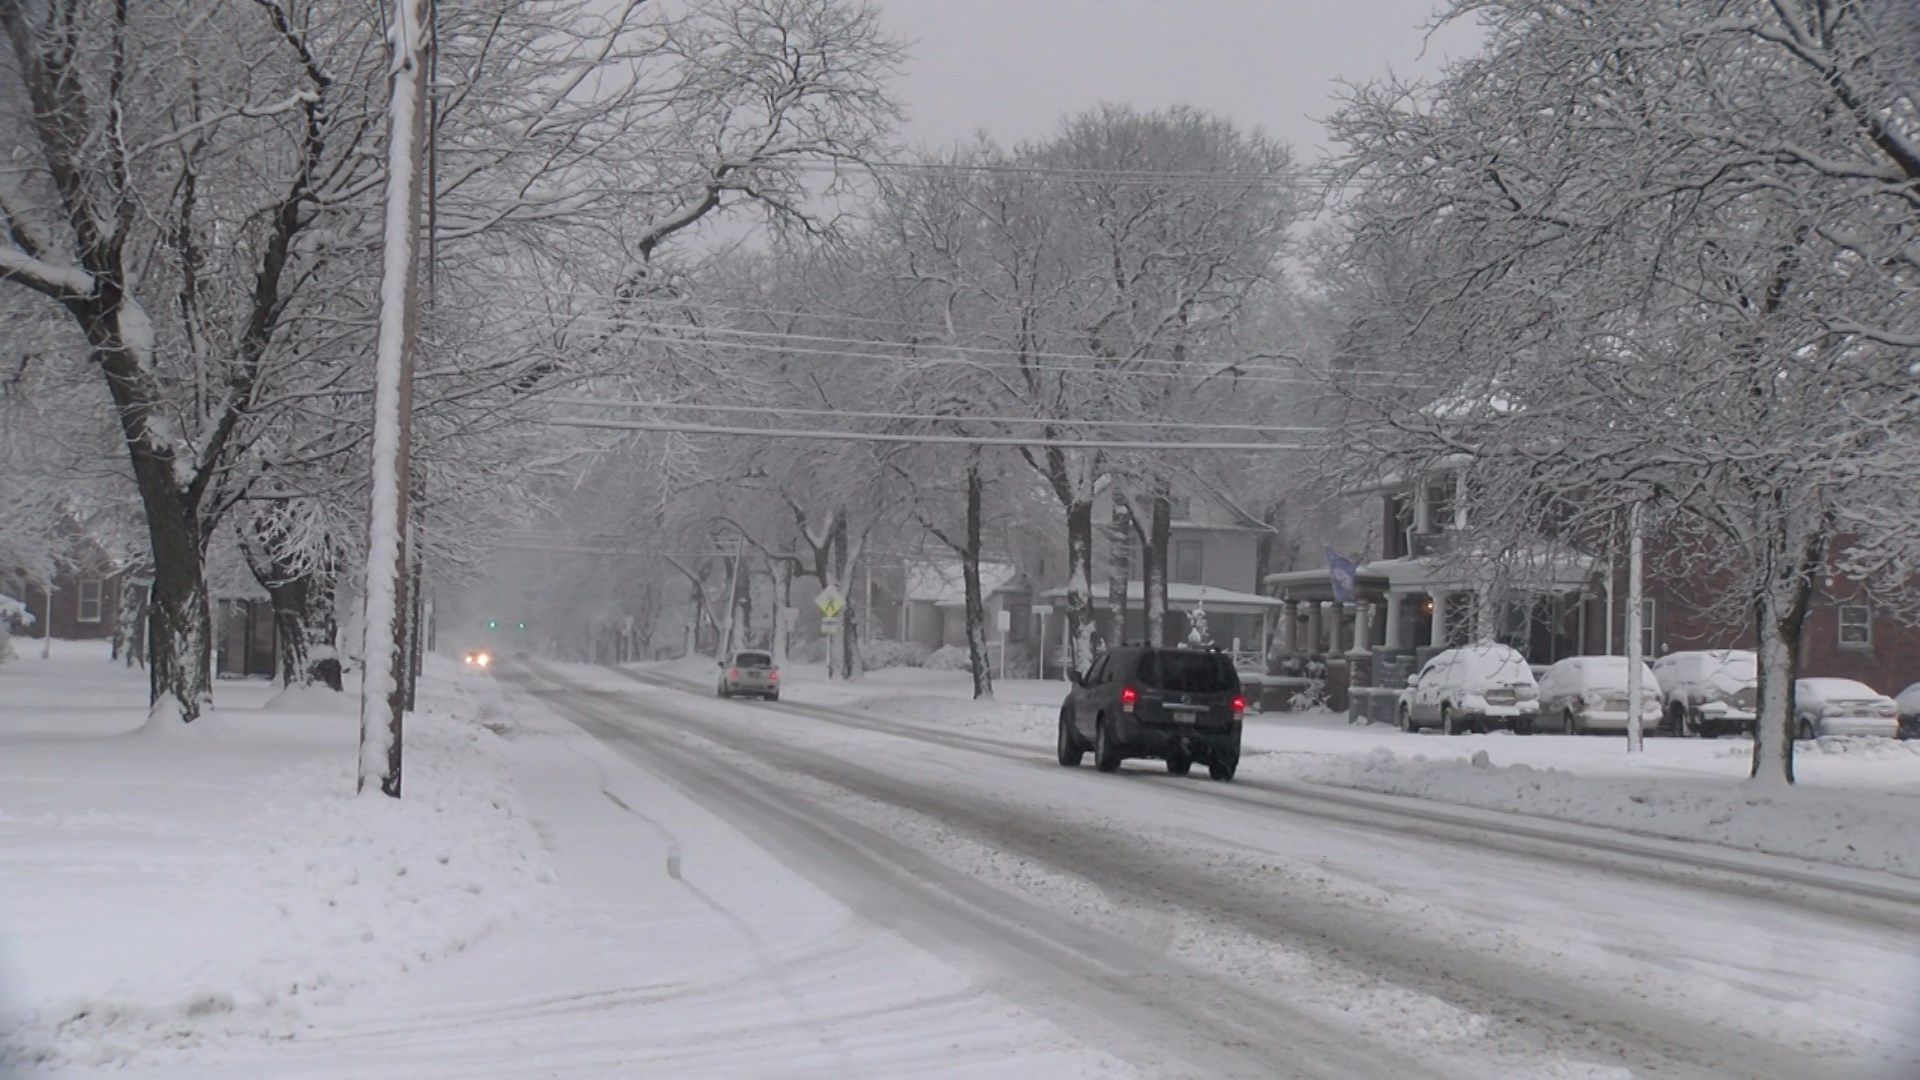car: (1055, 646, 1247, 779), (713, 645, 787, 703)
